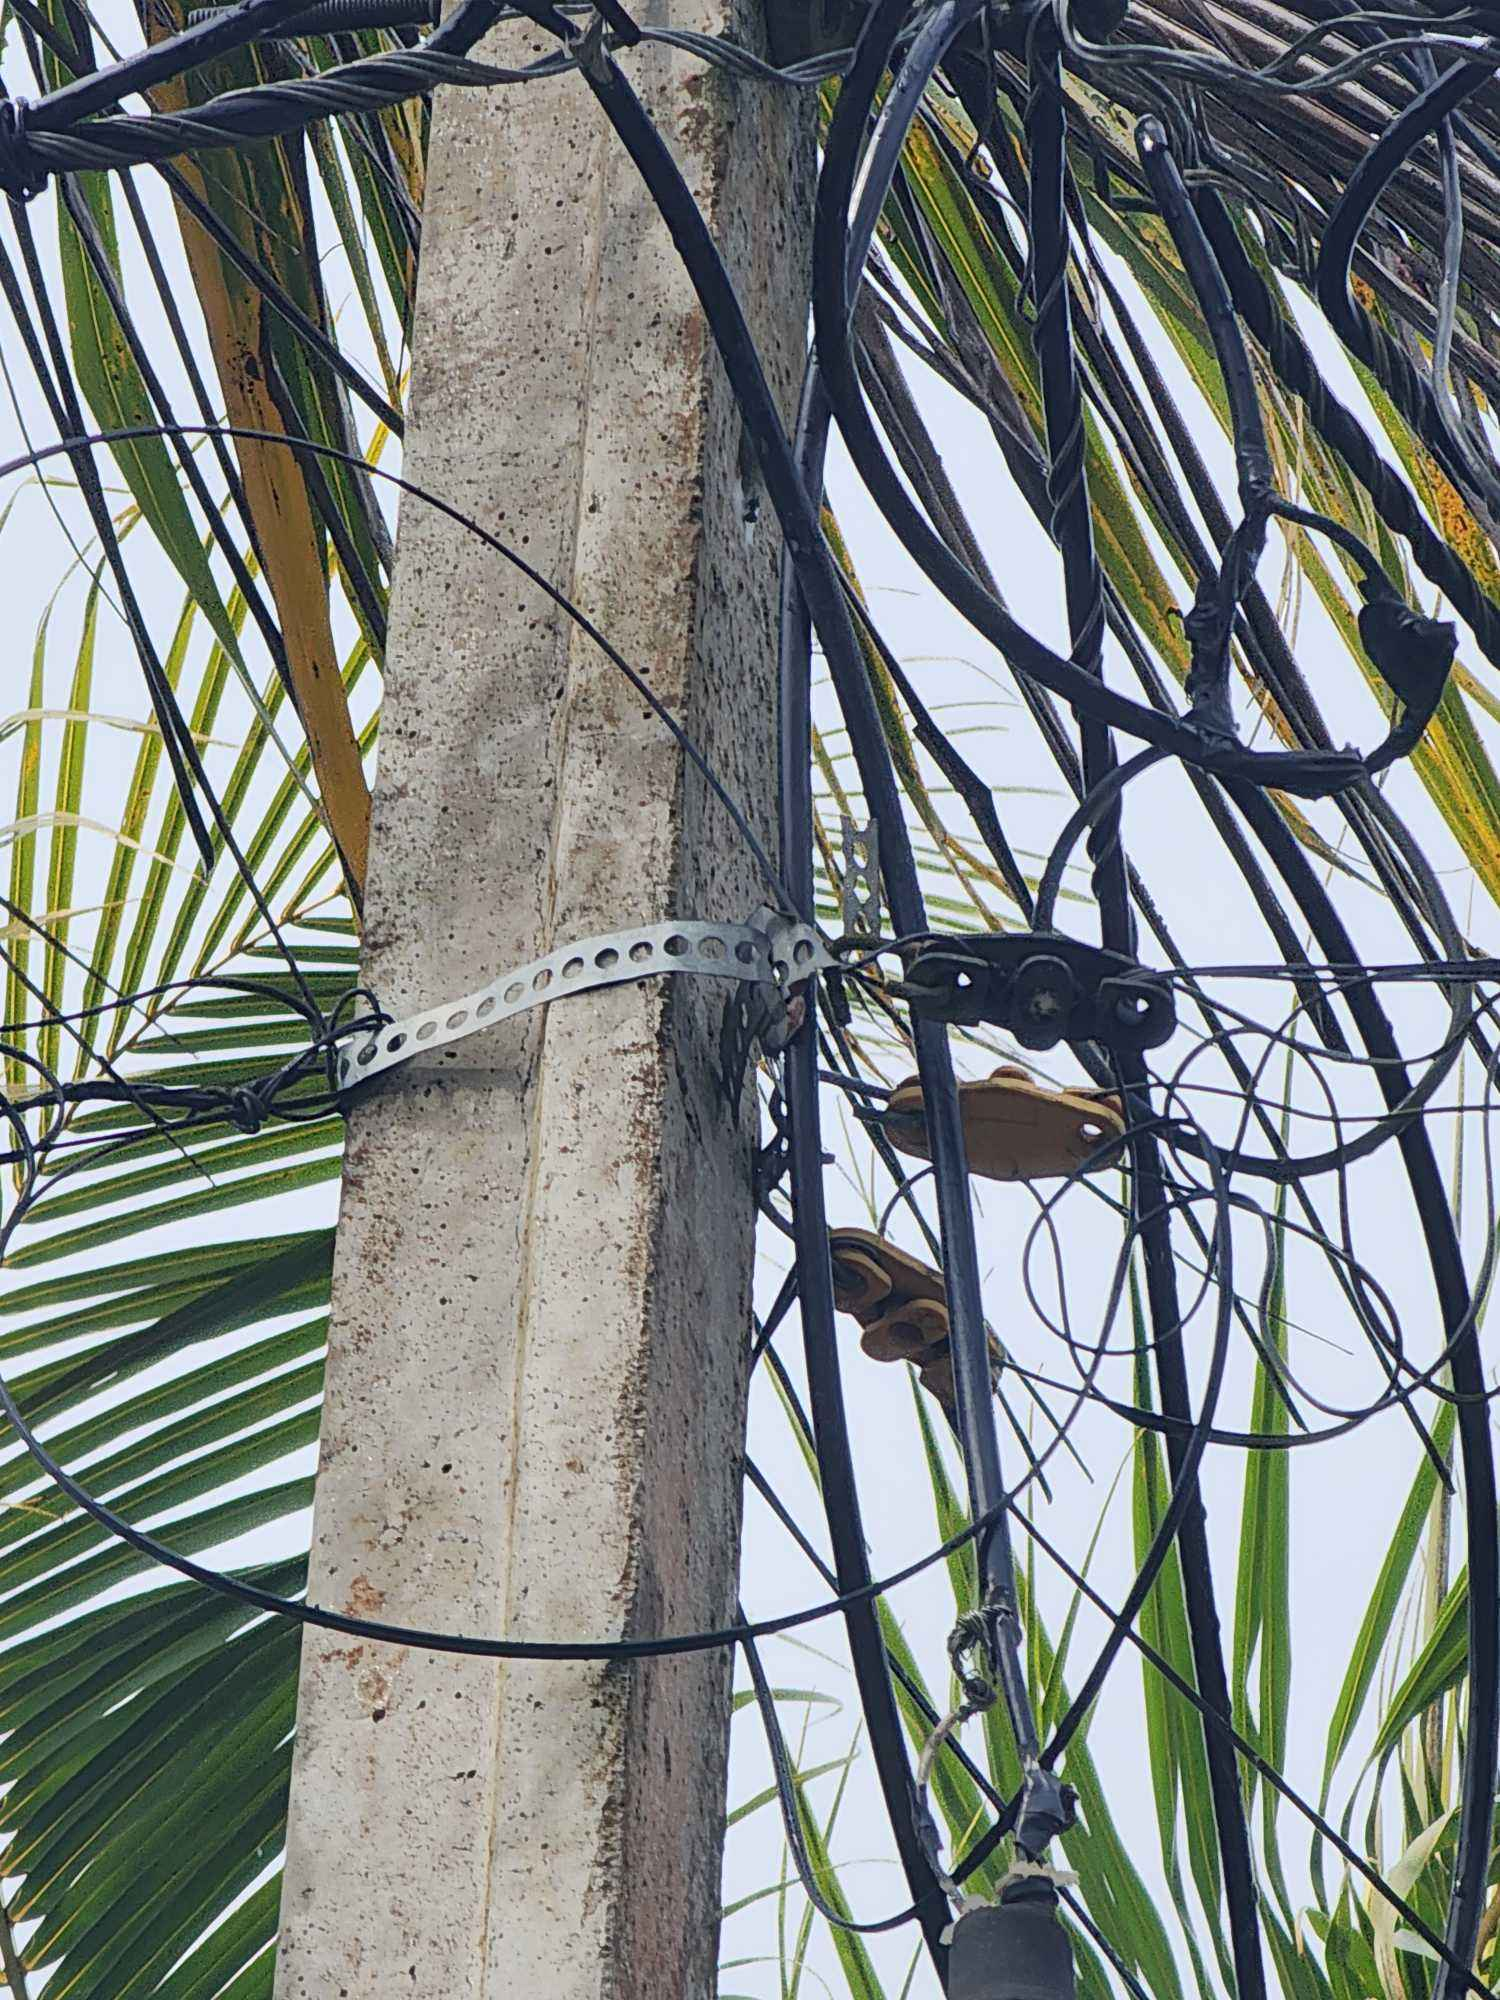drop: (867, 860, 1204, 1061), (871, 1047, 1161, 1225), (774, 1211, 1029, 1413)
poste: (265, 151, 838, 1992)
